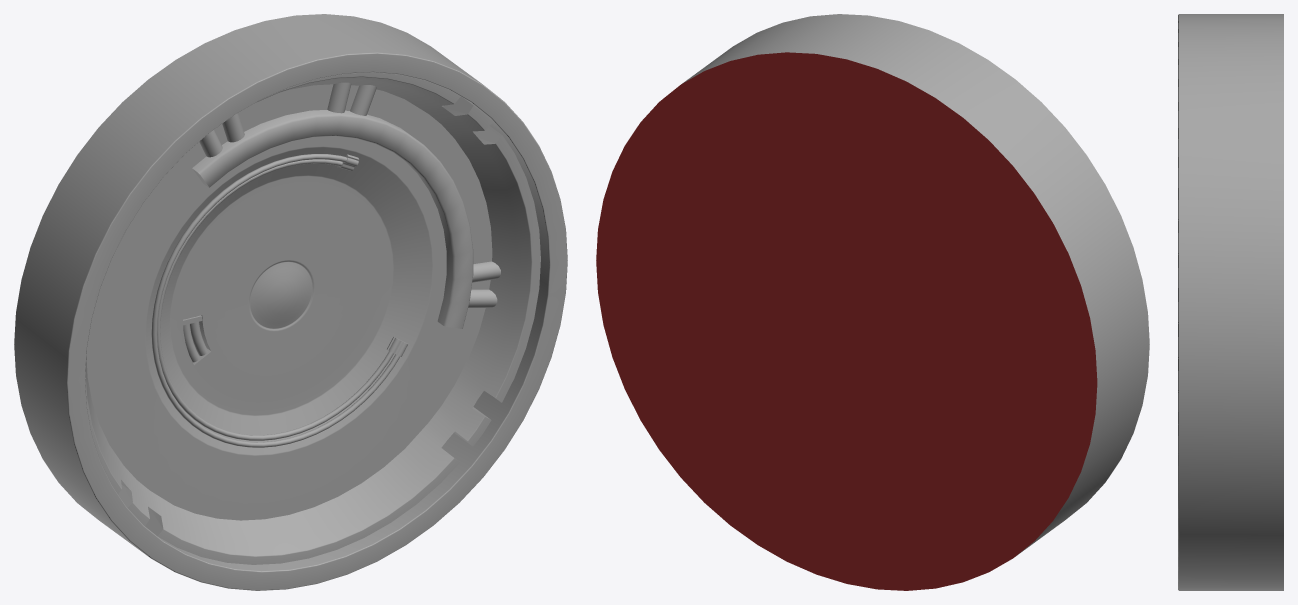
File: SM_Bio_Hallway_Door.fbx
3 renders of one model, left to right at view 1: azimuth 30°, elevation 25°; view 2: azimuth 150°, elevation 25°; view 3: azimuth 270°, elevation 25°, orthographic.
Parts seen in each view (by area): view 1: SM_Bio_Hallway_Door; view 2: SM_Bio_Hallway_Door; view 3: SM_Bio_Hallway_Door.
Part boxes in pixels (x1,y1,x2,y2): SM_Bio_Hallway_Door: [14, 14, 567, 590]; SM_Bio_Hallway_Door: [596, 14, 1149, 590]; SM_Bio_Hallway_Door: [1178, 14, 1283, 590].
Size of what is drawn, in the model's own units: 485 by 485 by 88.88.
